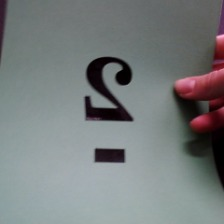green2: (73, 51, 143, 170)
